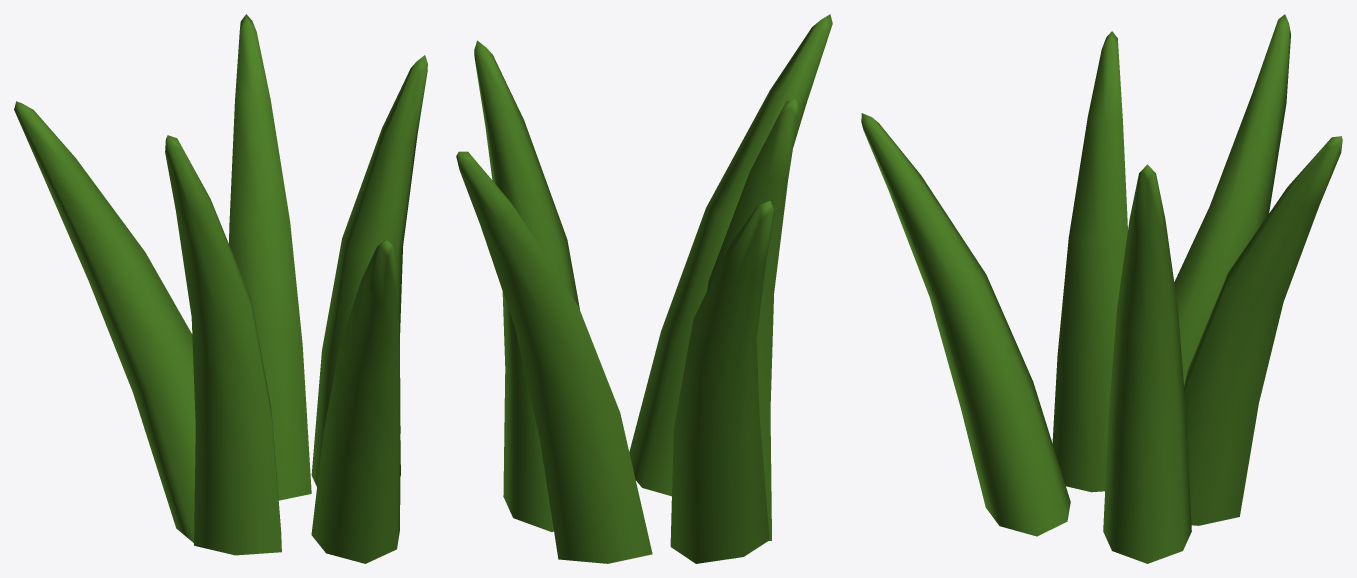
File: SM_grass_02.fbx
3 views of the same model, side by side, from view 1: azimuth 30°, elevation 25°; view 2: azimuth 150°, elevation 25°; view 3: azimuth 270°, elevation 25° (orthographic). The views are drawn at different scales.
Parts seen in each view (by area): view 1: Line015; view 2: Line015; view 3: Line015.
Boxes of the visible parts, <box> form: Line015: <box>14,14,427,563</box>; Line015: <box>456,14,832,563</box>; Line015: <box>861,14,1342,563</box>.
Bounding box in the file's own units: 24.8 × 28.6 × 30.31.
